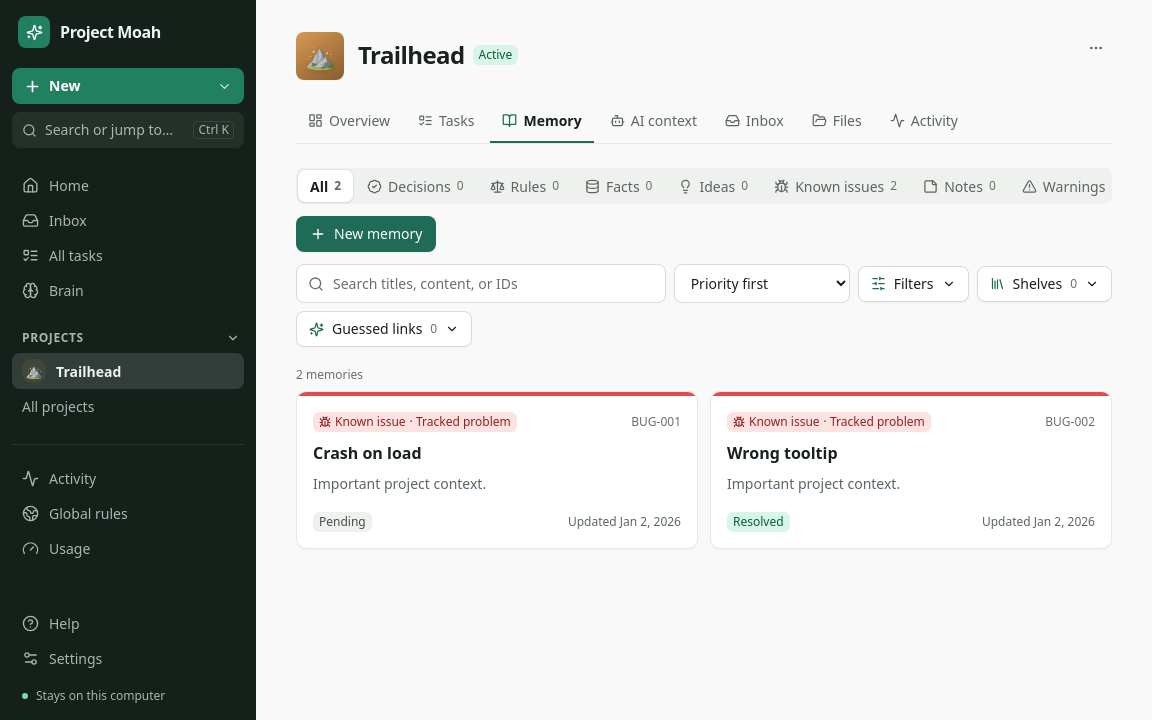
project memory page › filters known issues by pending and resolved
Click the button "Known issues 2": (836, 186) left=762, top=170, right=909, bottom=202
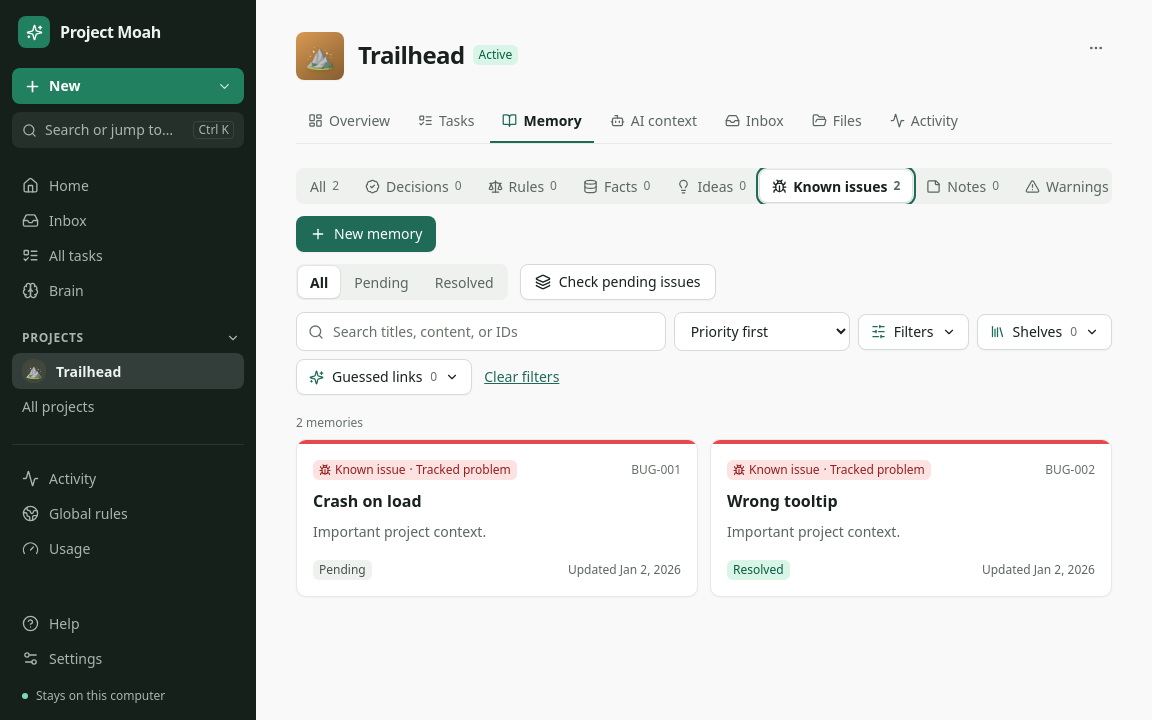
Expected: the button with aria-label "Open BUG-001:" is shown, left=297, top=440, right=697, bottom=596
Expected: the button with aria-label "Open BUG-002:" is shown, left=711, top=440, right=1111, bottom=596
Click the button "Pending": (381, 282) left=342, top=266, right=421, bottom=298
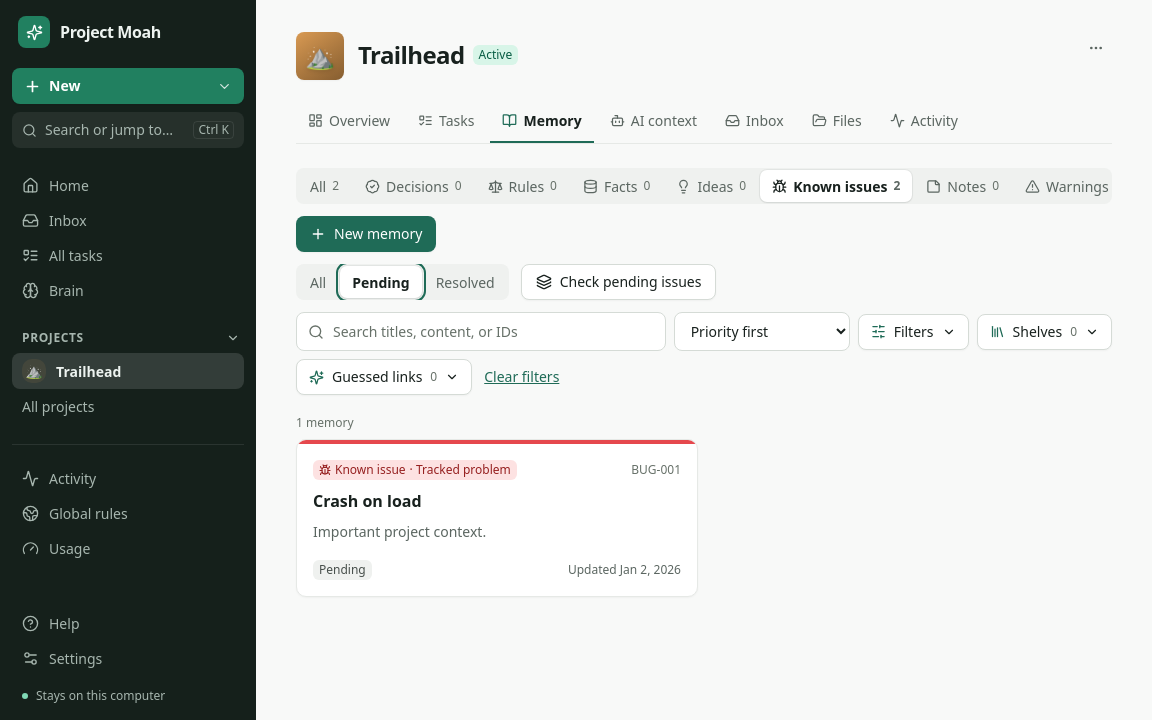
Expected: the button with aria-label "Open BUG-001:" is shown, left=297, top=440, right=697, bottom=596
Click the button "Resolved": (465, 282) left=424, top=266, right=507, bottom=298
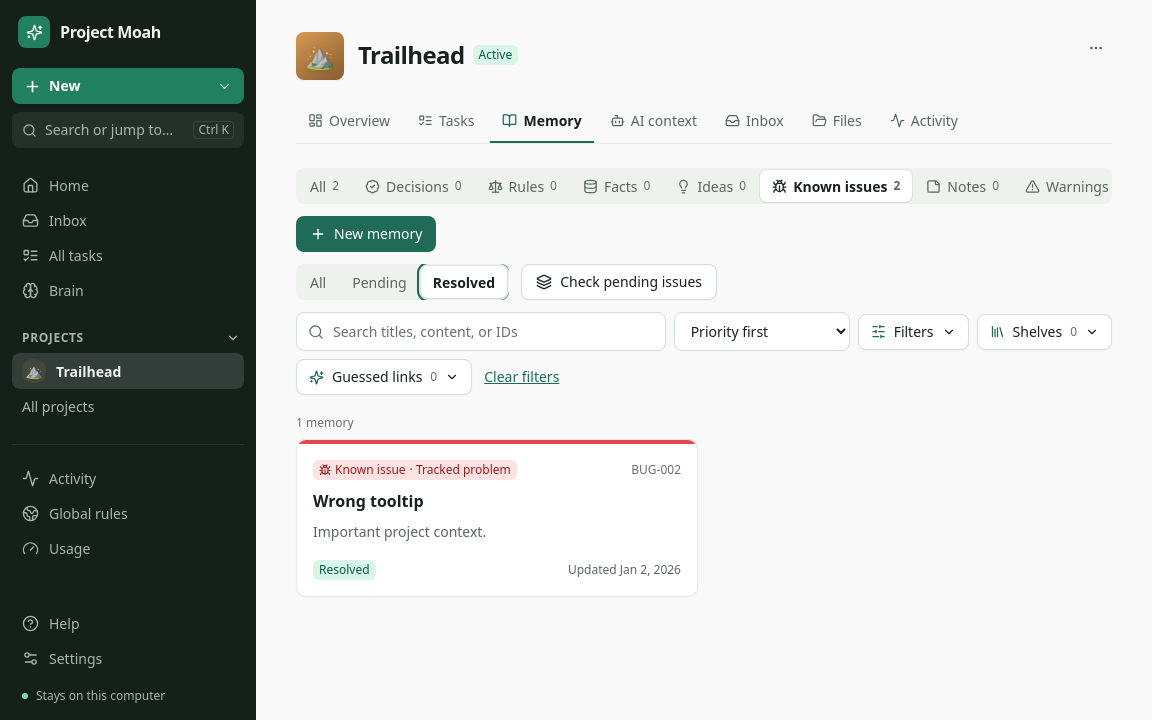
Expected: the button with aria-label "Open BUG-002:" is shown, left=297, top=440, right=697, bottom=596
